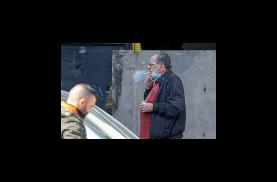mask_weared_incorrect: (81, 97, 99, 117), (145, 62, 162, 78)
